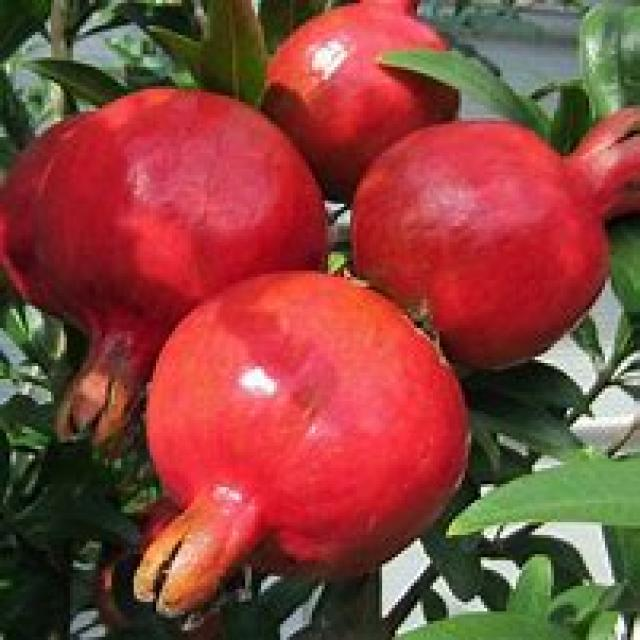Ripe: (120, 262, 476, 624), (337, 89, 640, 359), (34, 82, 335, 274)
